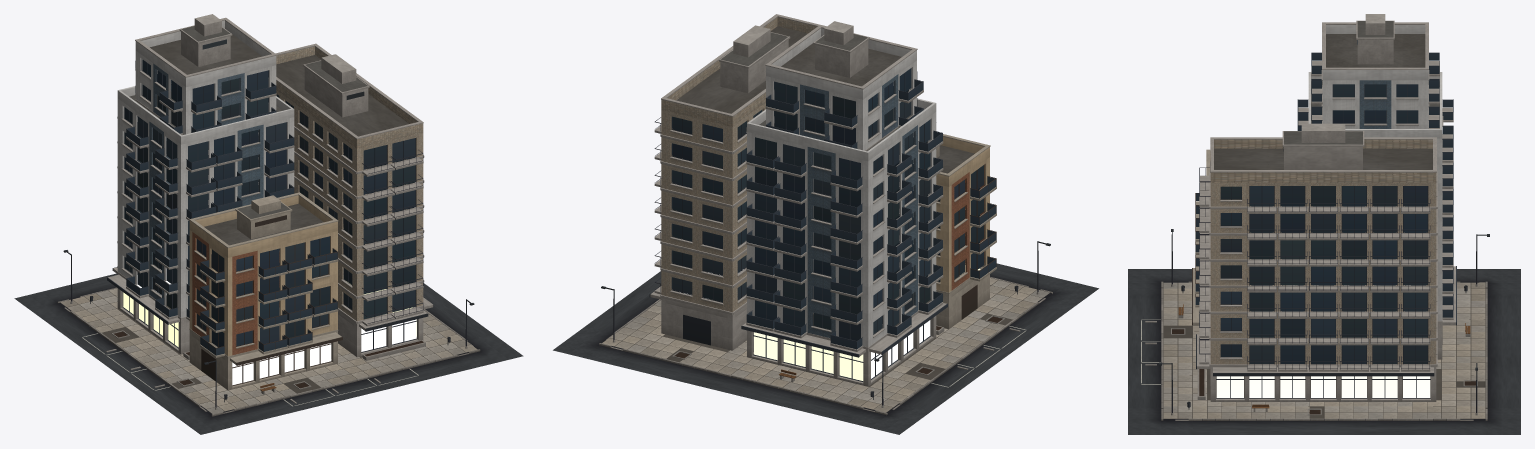
The model's file is modulo_D_lod0.glb.
The picture shows the model from 3 angles, left to right: view 1: azimuth 30°, elevation 25°; view 2: azimuth 150°, elevation 25°; view 3: azimuth 270°, elevation 25°; orthographic projection. The views are drawn at different scales.
Visible parts, largest first — view 1: modulo_D_lod0_tex, modulo_D_lod0_solid; view 2: modulo_D_lod0_tex, modulo_D_lod0_solid; view 3: modulo_D_lod0_tex, modulo_D_lod0_solid.
Part boxes in pixels (<box>): modulo_D_lod0_tex: <box>14,14,523,434</box>; modulo_D_lod0_solid: <box>63,39,474,407</box>; modulo_D_lod0_tex: <box>553,14,1098,434</box>; modulo_D_lod0_solid: <box>601,68,1050,405</box>; modulo_D_lod0_tex: <box>1128,14,1520,434</box>; modulo_D_lod0_solid: <box>1159,40,1489,412</box>.
Size of the model in its own units: 40 by 35.36 by 40.
11 materials, 7 textured.
